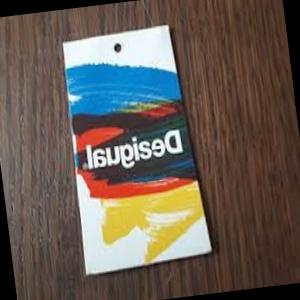desigual: (158, 58, 231, 174)
